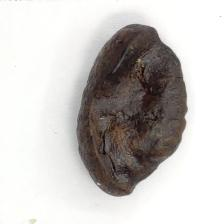NG: (88, 93, 191, 200), (109, 21, 190, 93)
